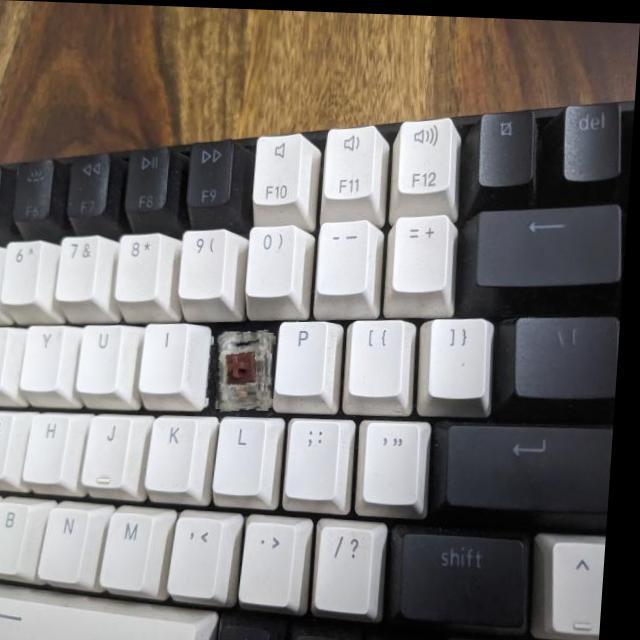key-switch: (216, 327, 280, 410)
